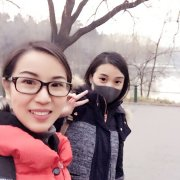face: (12, 54, 67, 131)
face_mask: (93, 65, 124, 101)
